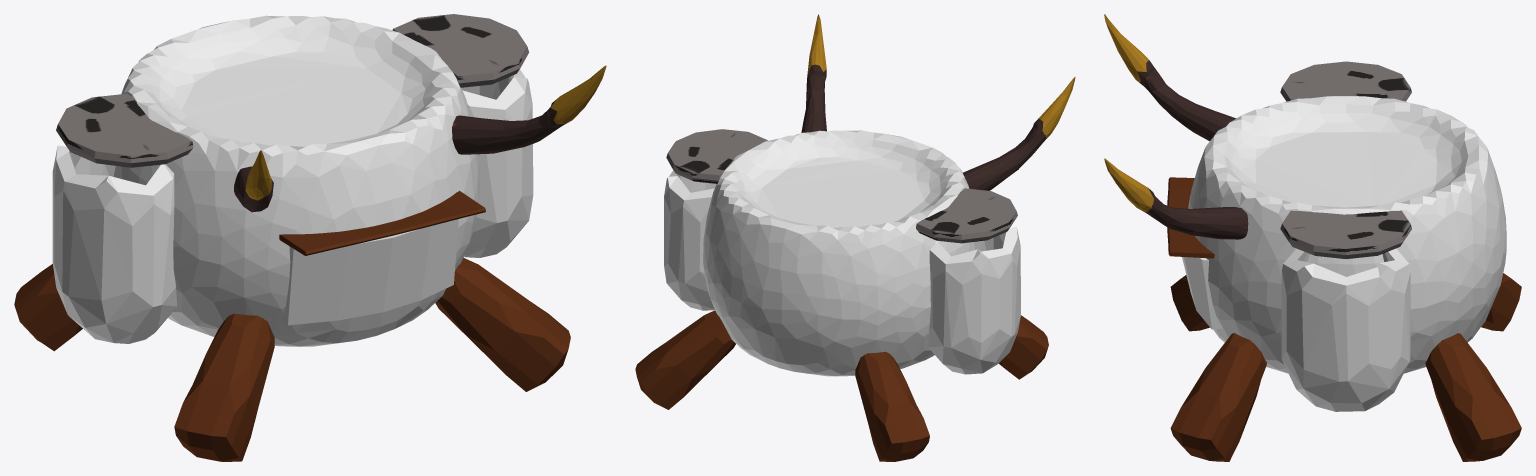
The model's file is House01-10.fbx.
The picture shows the model from 3 angles, left to right: view 1: azimuth 30°, elevation 25°; view 2: azimuth 150°, elevation 25°; view 3: azimuth 270°, elevation 25°; orthographic projection. The views are drawn at different scales.
Parts seen in each view (by area): view 1: Boutique; view 2: Boutique; view 3: Boutique.
Part boxes in pixels (x1=…): Boutique: x1=14, y1=14, x2=606, y2=461; Boutique: x1=635, y1=14, x2=1075, y2=461; Boutique: x1=1104, y1=14, x2=1521, y2=461.
Bounding box in the file's own units: 3140 × 2343 × 2889.
